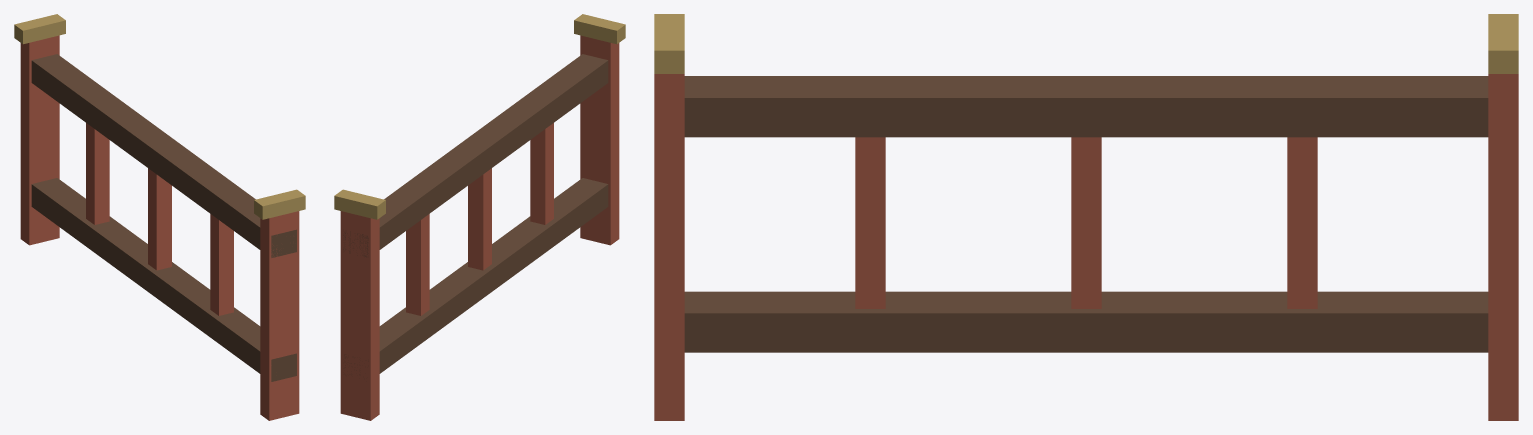
File: bridge-rail.glb
The picture shows the model from 3 angles, left to right: view 1: azimuth 30°, elevation 25°; view 2: azimuth 150°, elevation 25°; view 3: azimuth 270°, elevation 25°; orthographic projection. The views are drawn at different scales.
Parts seen in each view (by area): view 1: bridge-rail; view 2: bridge-rail; view 3: bridge-rail.
Boxes of the visible parts, x1,y1,x2,y2 form: bridge-rail: [14, 14, 305, 420]; bridge-rail: [334, 14, 625, 420]; bridge-rail: [654, 14, 1518, 420].
Bounding box in the file's own units: 0.2 × 0.96 × 2.
